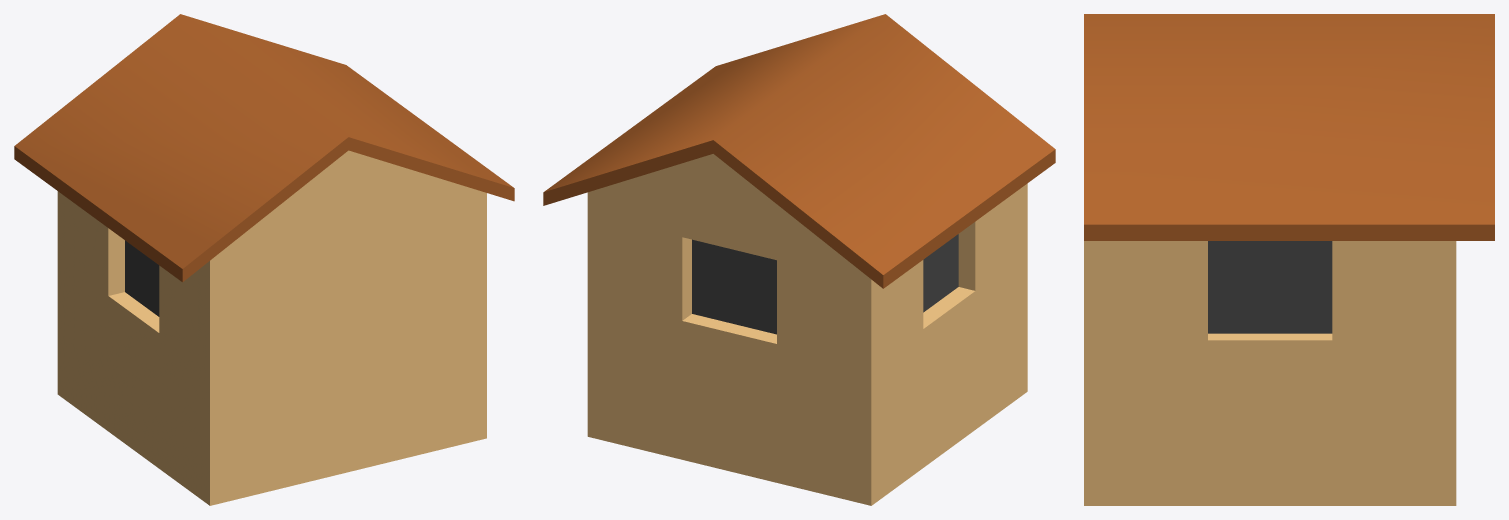
The model's file is Building 05.FBX.
3 renders of one model, left to right at view 1: azimuth 30°, elevation 25°; view 2: azimuth 150°, elevation 25°; view 3: azimuth 270°, elevation 25°, orthographic. The views are drawn at different scales.
Visible parts, largest first — view 1: Box001; view 2: Box001; view 3: Box001.
Part boxes in pixels (box(x1,y1,x2,y2)): Box001: box(14, 14, 514, 505); Box001: box(543, 14, 1055, 505); Box001: box(1084, 14, 1494, 505).
Size of the model in its own units: 8.81 by 8.5 by 7.74.
